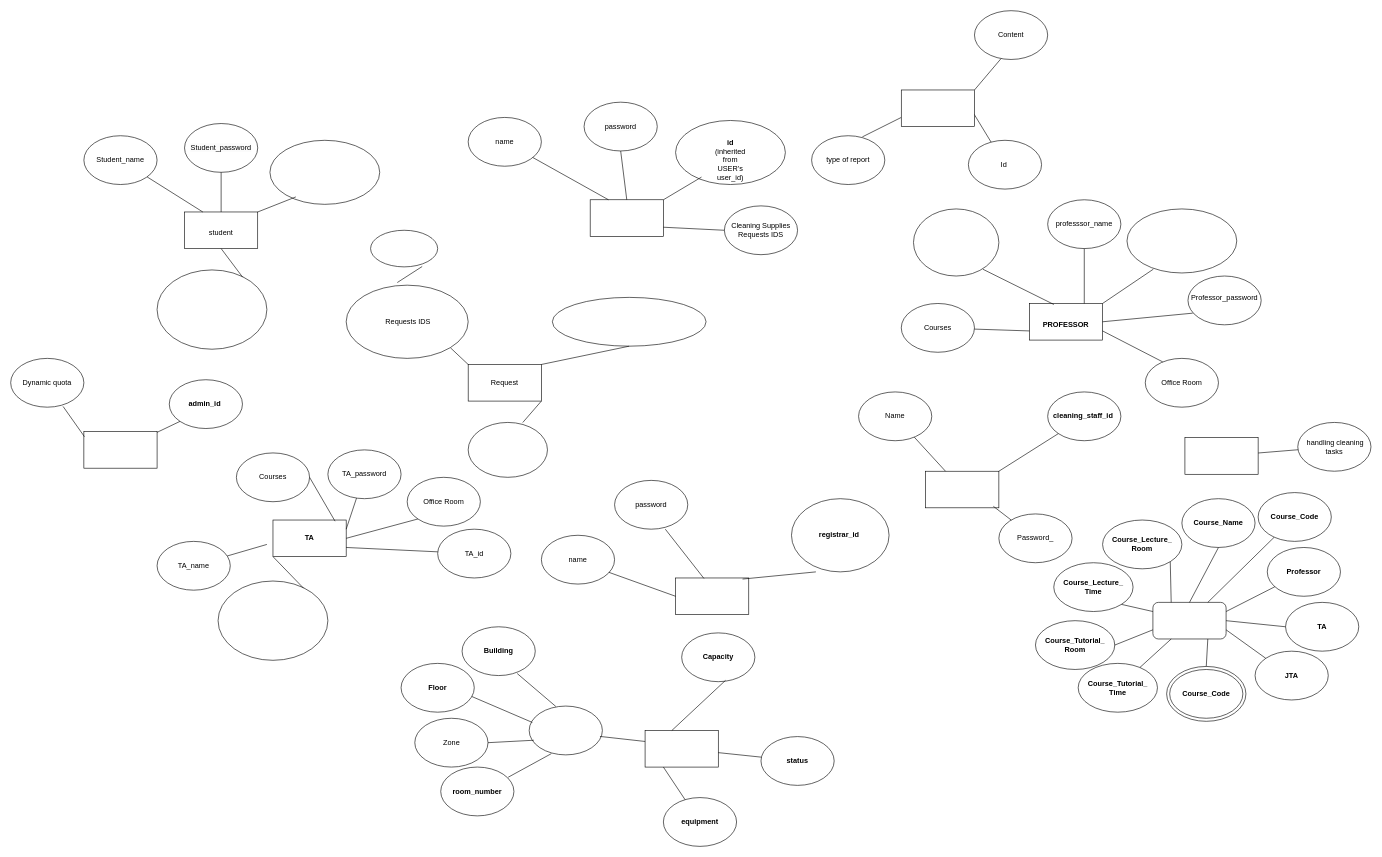
This 1382x857 diagram has some shape labels left out. The centre of each missing label's shape, as x and y in pixels:
ADMIN: [120,449]
check_list: [1221,455]
Cleaning: [404,248]
CLEANING_STAFF: [962,489]
COURSE: [1189,620]
monthly_quota (20 hours): [272,620]
monthly_quota (default: 3 hours; increases to 10 hours if the student is a JTA): [211,309]
professor id: [1181,240]
REGISTRAR: [712,596]
Report: [937,108]
Request Content: [507,449]
ROOM: [681,748]
Room change: [629,321]
Room Report ID: [956,242]
Room Services Member: [626,217]
Room_id: [565,730]
student_id (inherited from USER’s user_id): [324,172]
